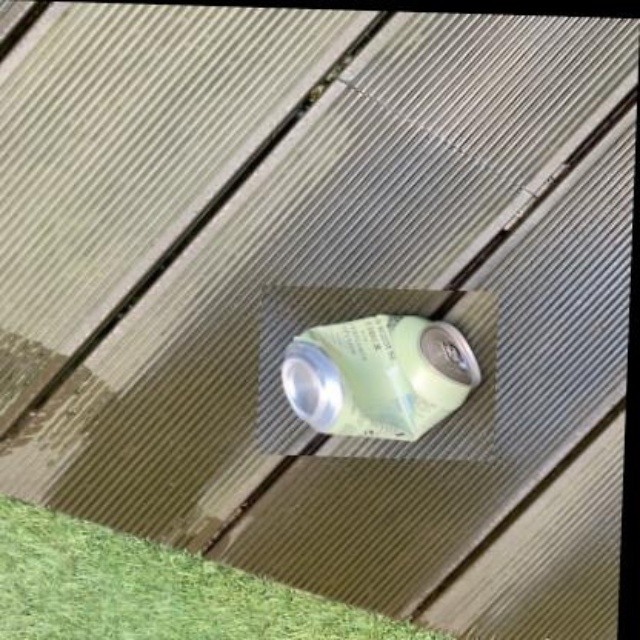trash: (282, 315, 480, 440)
